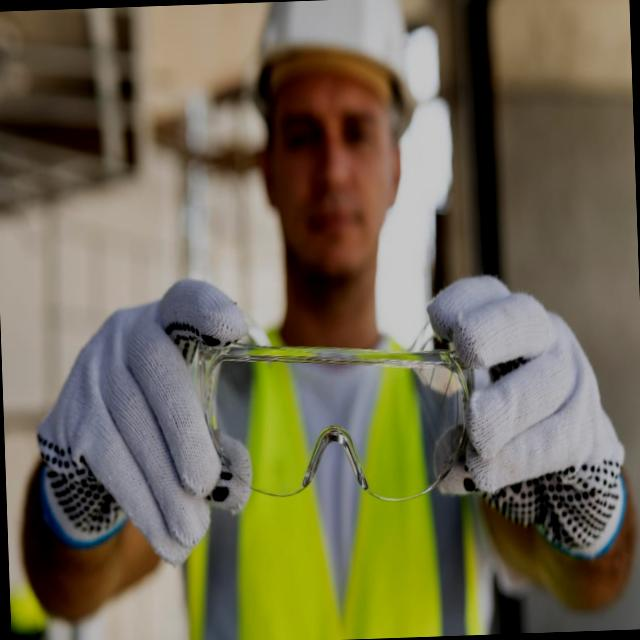goggles: (195, 314, 492, 512)
